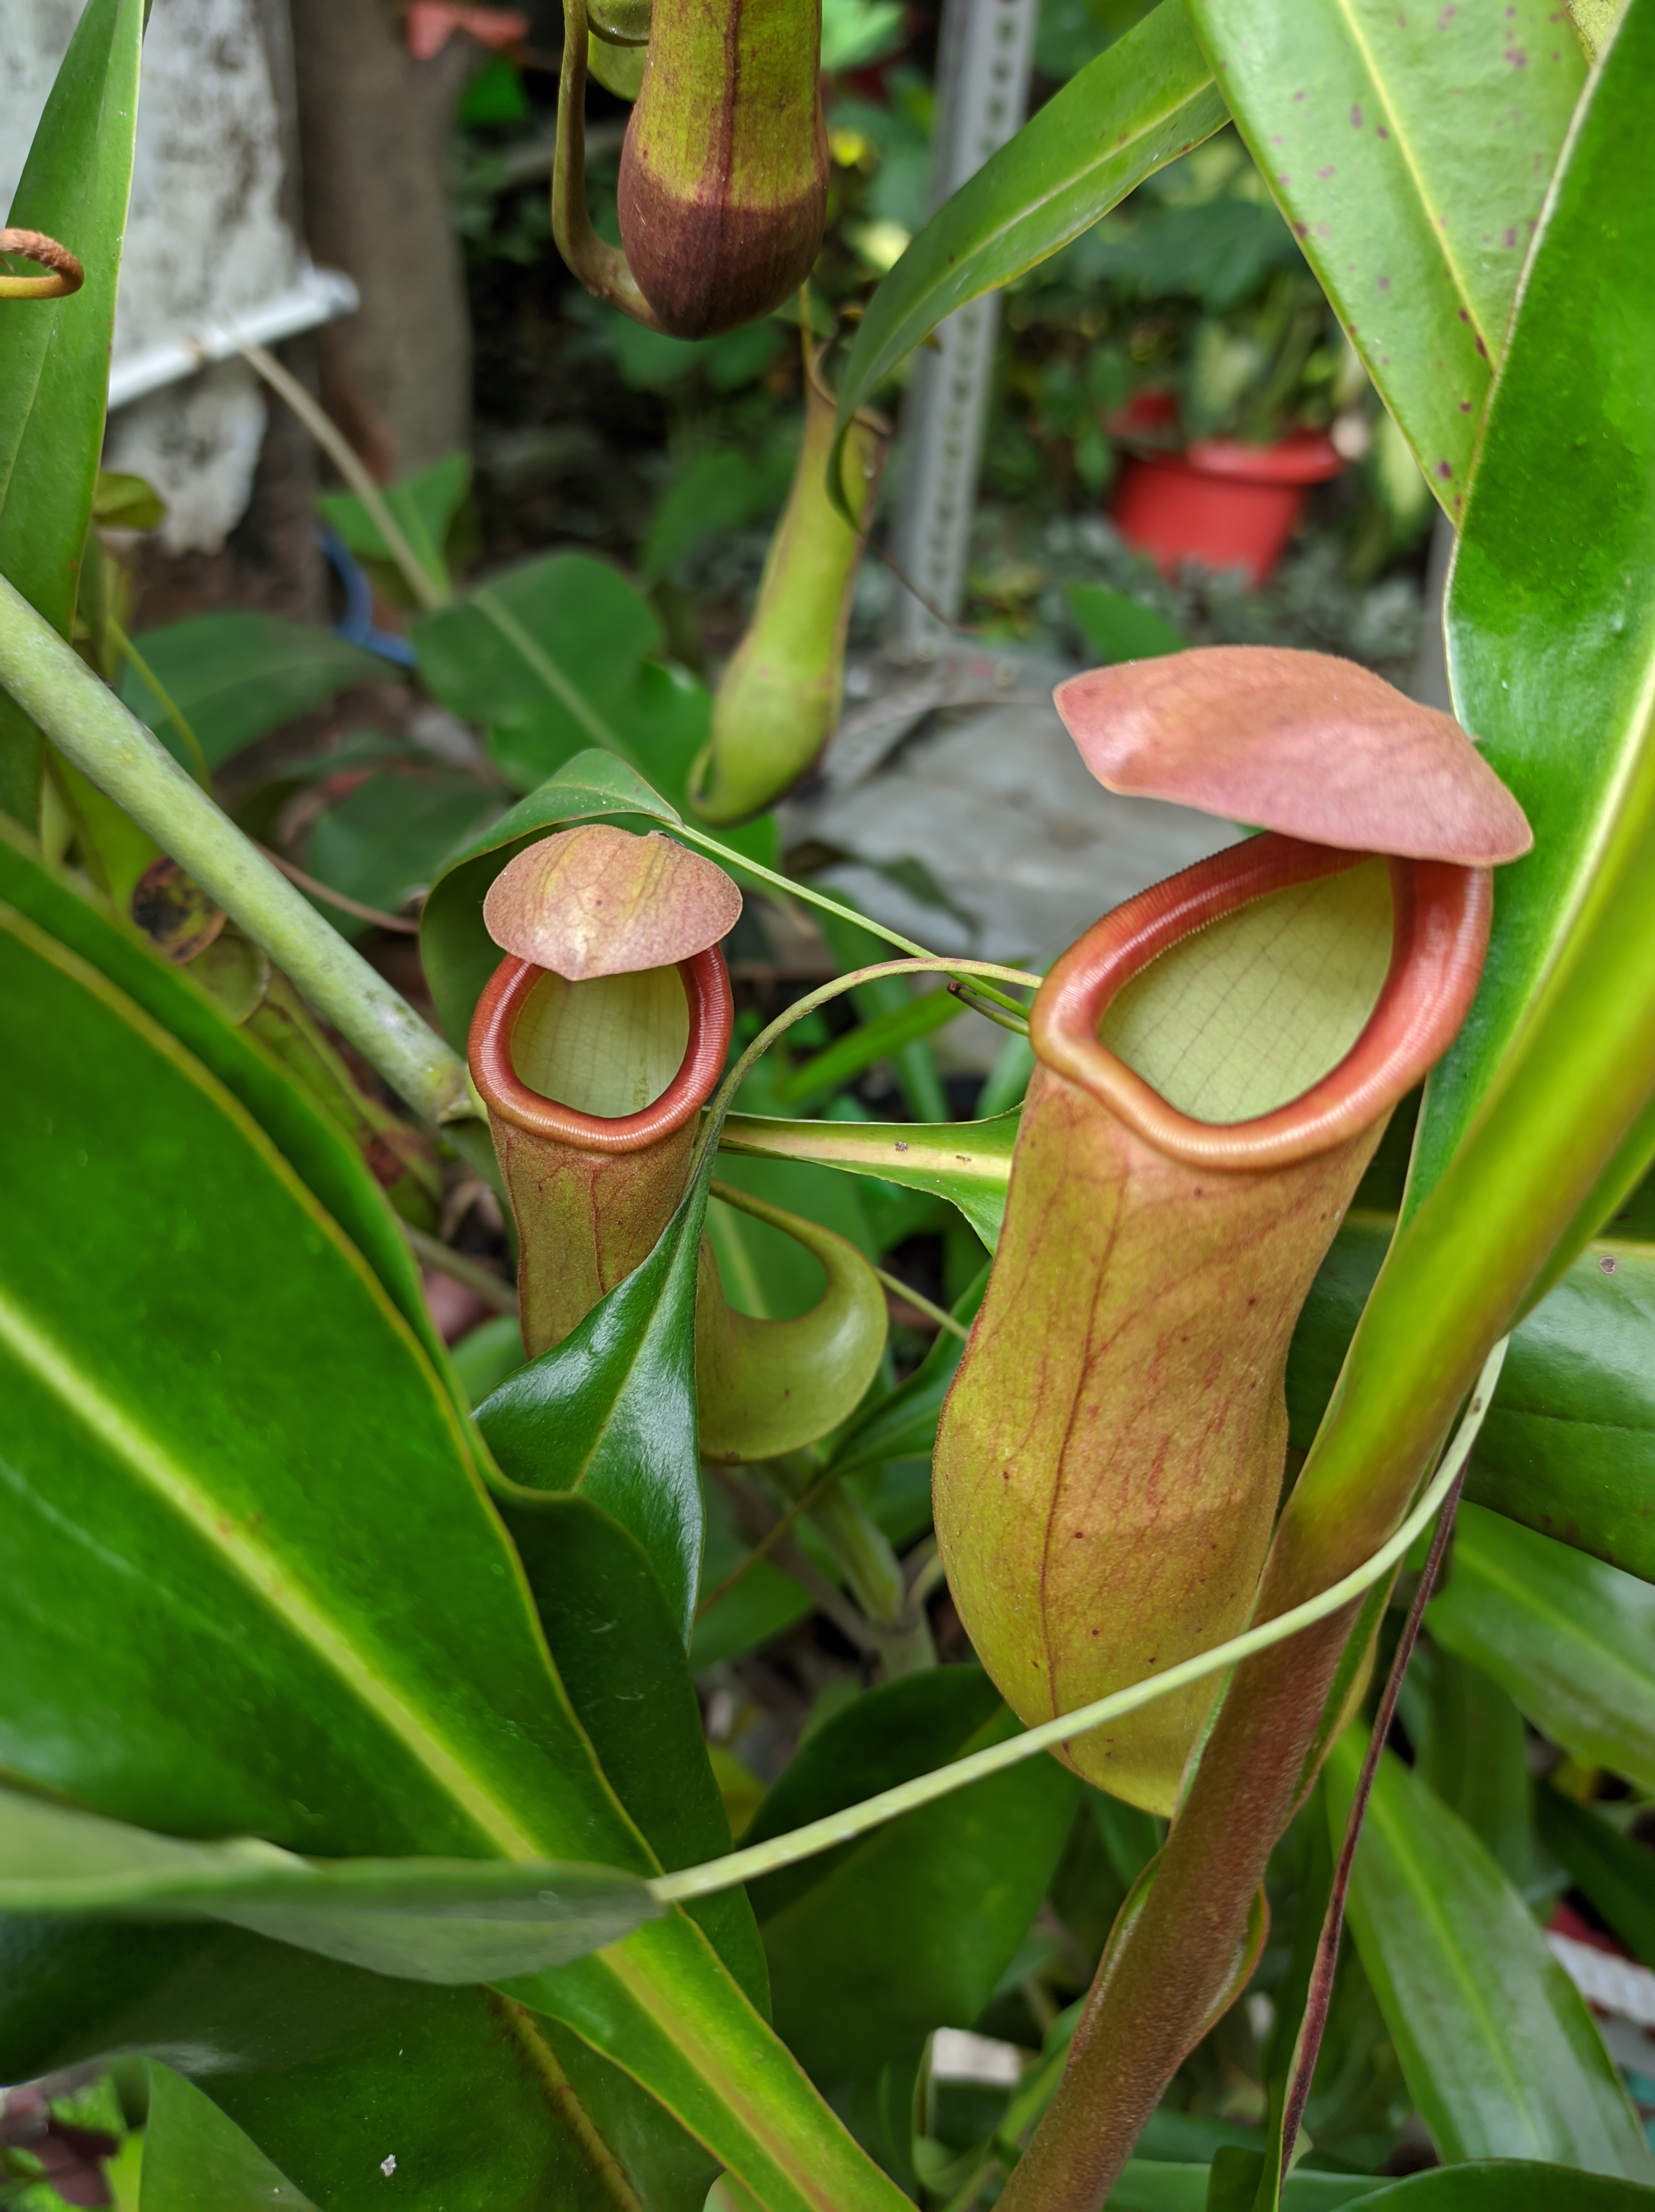Khasiana: (885, 616, 1559, 1882)
